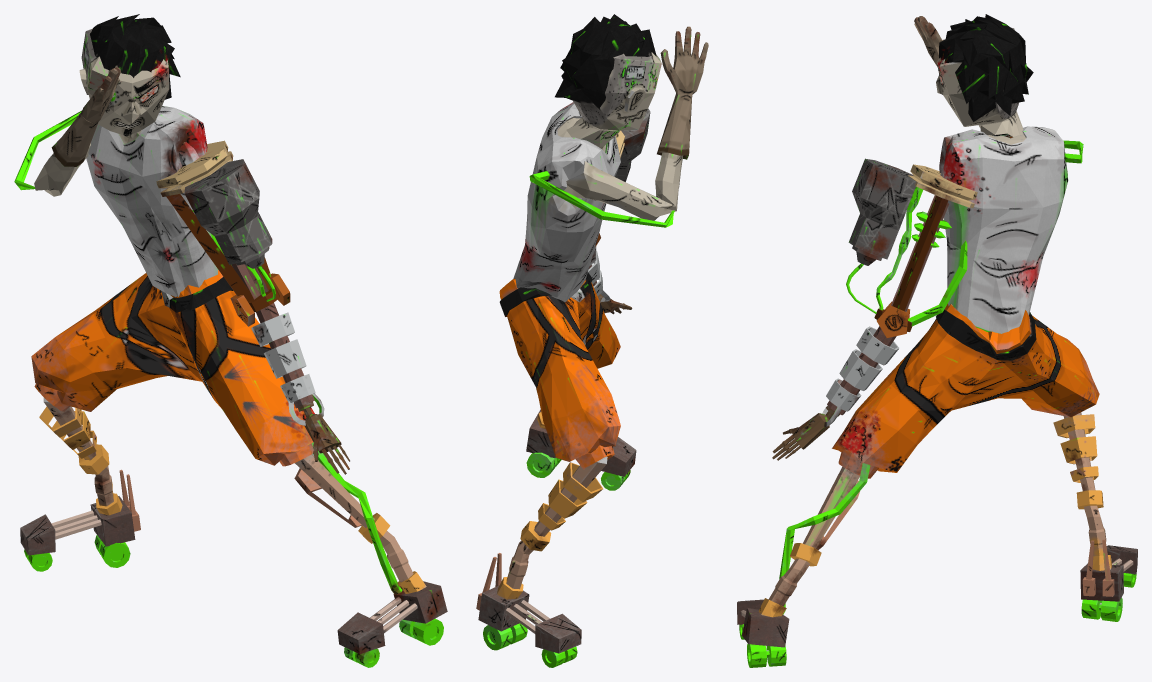
The model's file is CyborgFINALAnimation_000067.obj.
3 views of the same model, side by side, from view 1: azimuth 30°, elevation 25°; view 2: azimuth 150°, elevation 25°; view 3: azimuth 270°, elevation 25° (orthographic). The views are drawn at different scales.
Parts seen in each view (by area): view 1: CyborgMesh_Cube.002; view 2: CyborgMesh_Cube.002; view 3: CyborgMesh_Cube.002.
Part boxes in pixels (bbox=[...]): CyborgMesh_Cube.002: bbox=[14, 14, 447, 667]; CyborgMesh_Cube.002: bbox=[476, 14, 708, 667]; CyborgMesh_Cube.002: bbox=[737, 14, 1137, 667].
Size of the model in its own units: 4.23 by 8.63 by 5.44.
